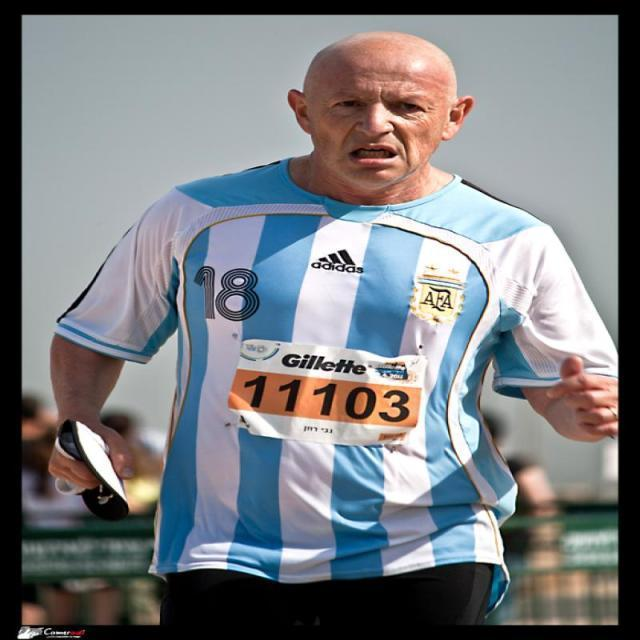dorsal: (214, 327, 450, 462)
